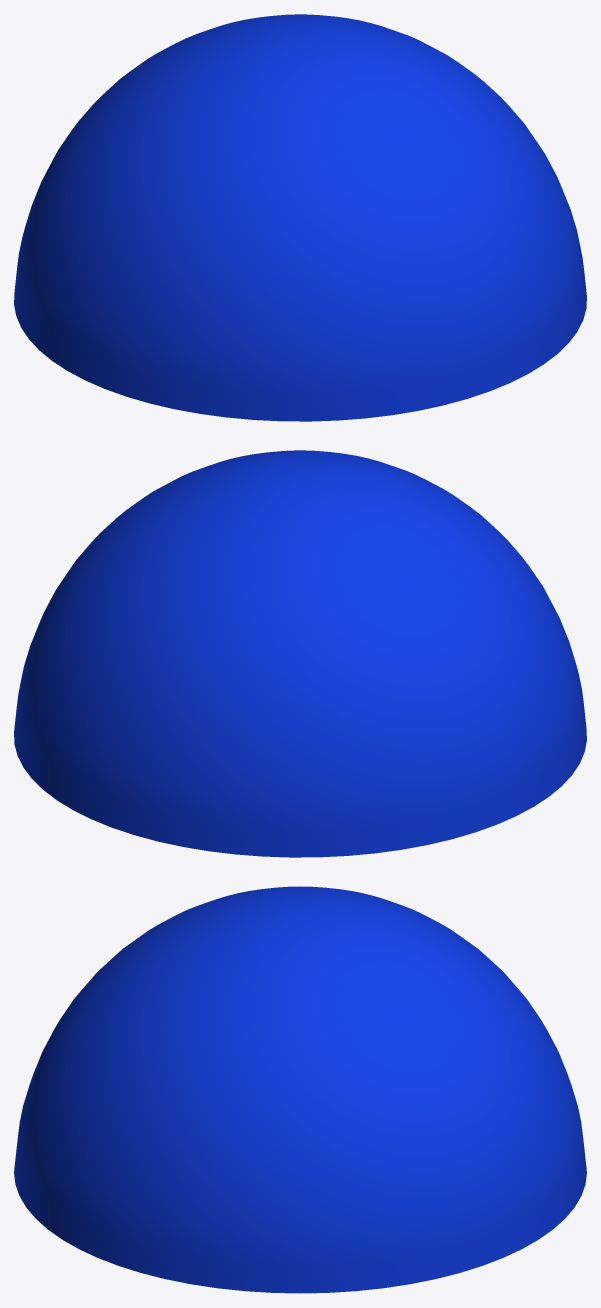
Rendered from coupole.fbx.
3 views of the same model, one above another, from view 1: azimuth 30°, elevation 25°; view 2: azimuth 150°, elevation 25°; view 3: azimuth 270°, elevation 25° (orthographic).
Parts seen in each view (by area): view 1: Sphere; view 2: Sphere; view 3: Sphere.
Part boxes in pixels (left/top/right/bottom): Sphere: left=14, top=14, right=586, bottom=421; Sphere: left=14, top=450, right=586, bottom=857; Sphere: left=14, top=886, right=586, bottom=1293.
Bounding box in the file's own units: 199 × 99.76 × 199.
